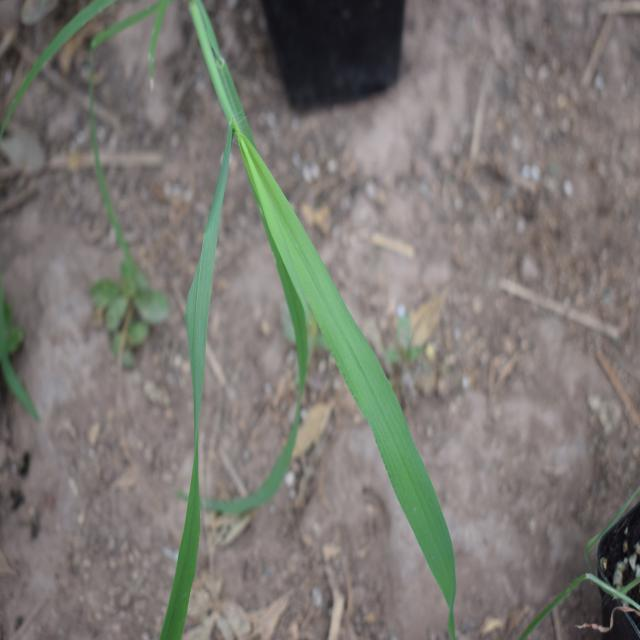crabgrass: (164, 120, 452, 620)
